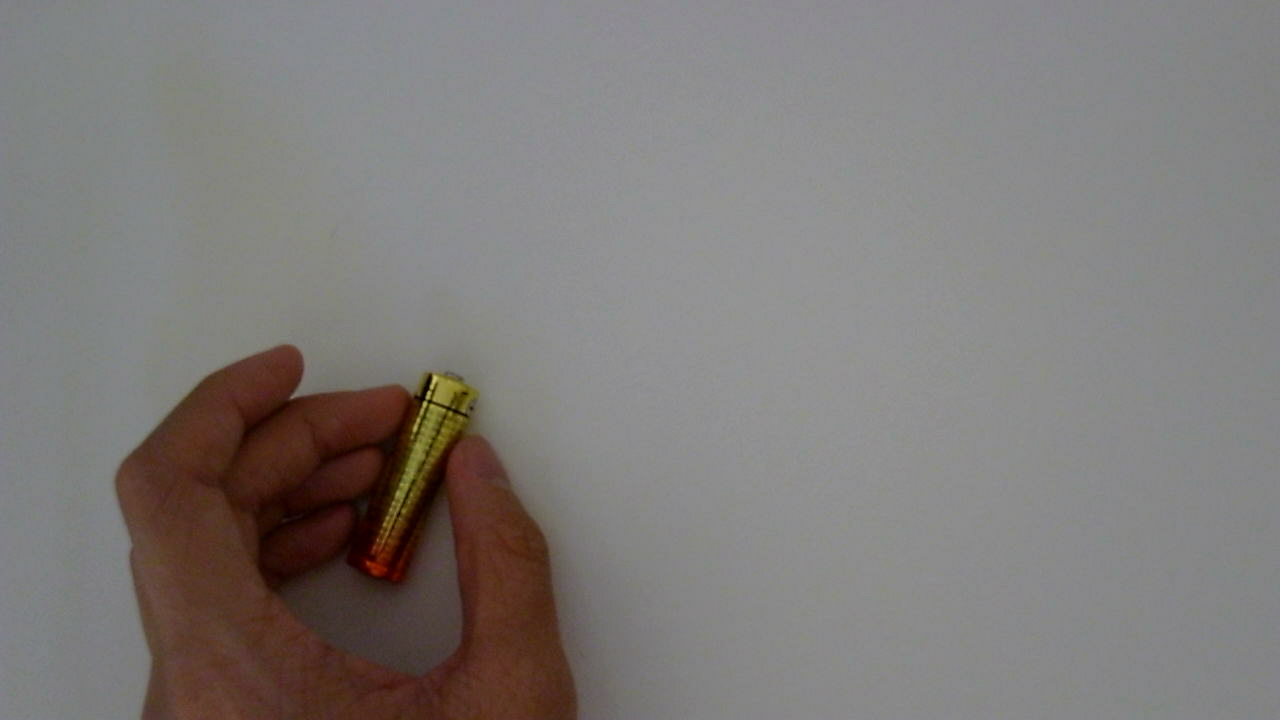Battery: (342, 366, 484, 593)
